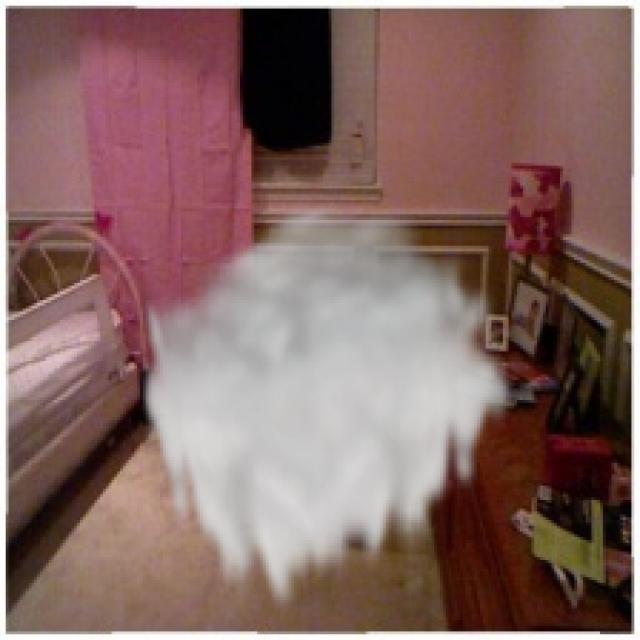Smoke: (137, 197, 517, 623)
